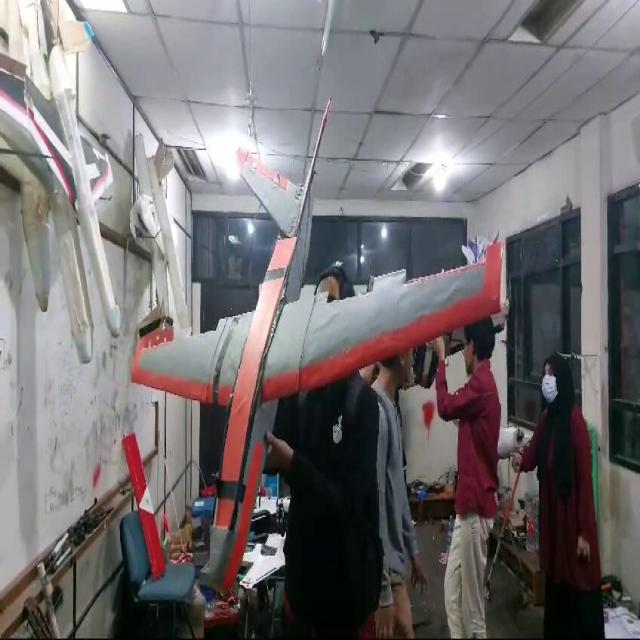plane: (128, 94, 510, 598)
